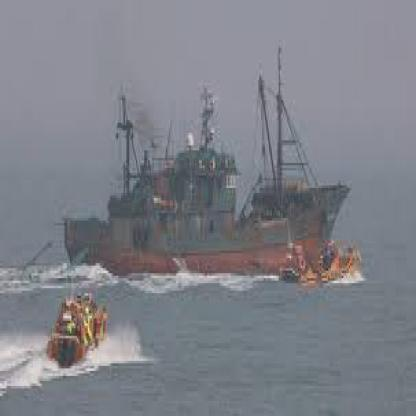fish-b: (47, 35, 361, 288)
